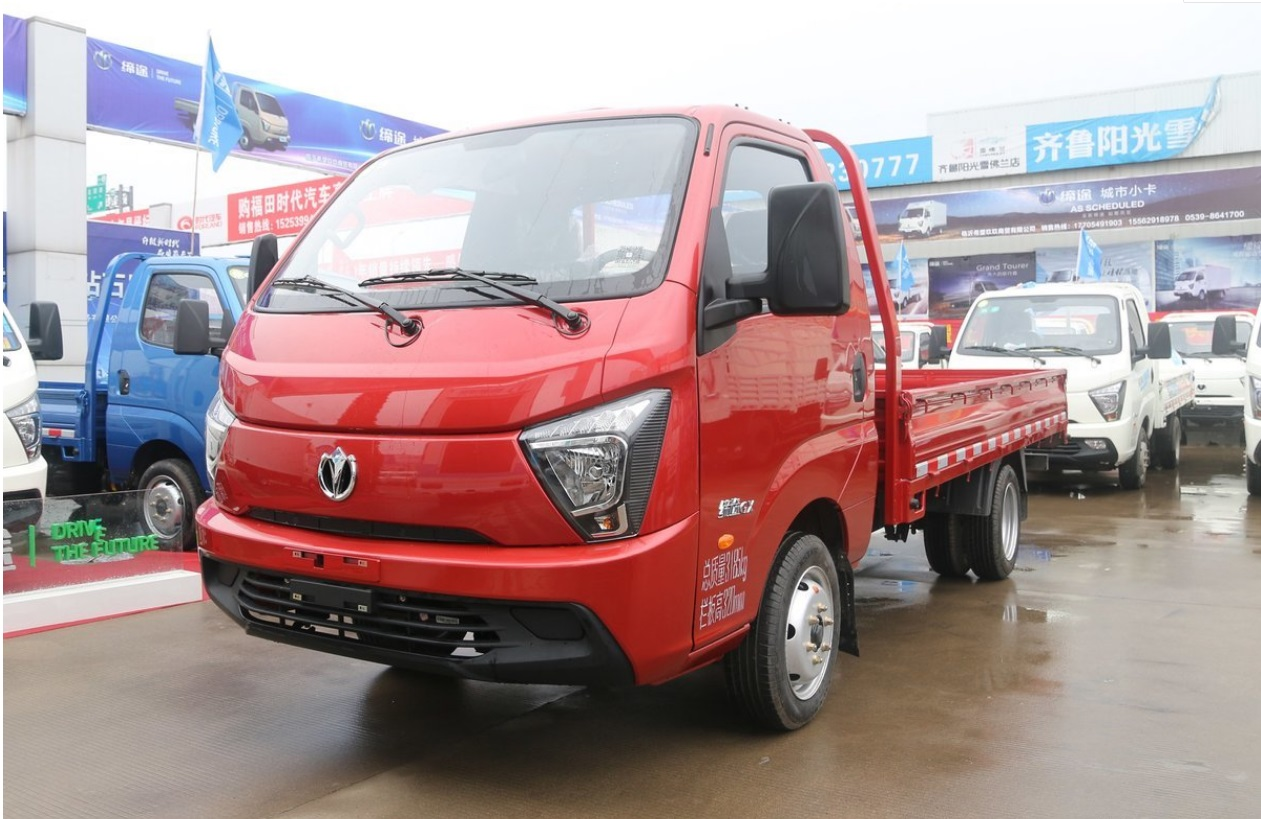truck: (193, 106, 1073, 738)
